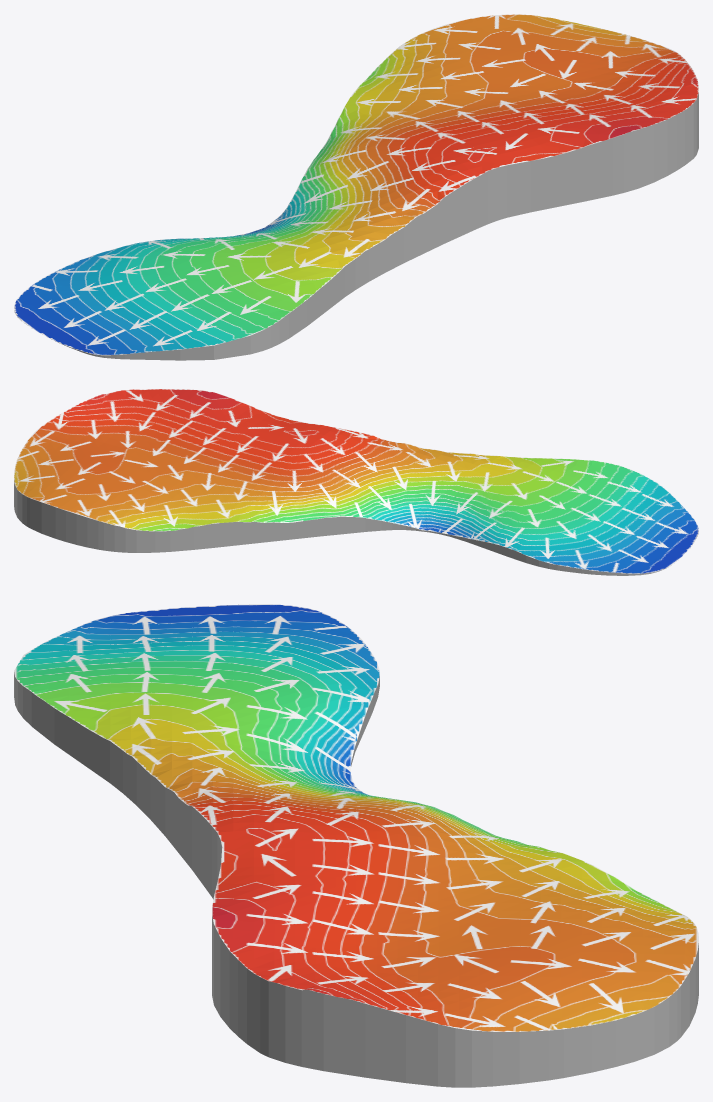
3 views of the same model, one above another, from view 1: azimuth 30°, elevation 25°; view 2: azimuth 150°, elevation 25°; view 3: azimuth 270°, elevation 25° (orthographic). The views are drawn at different scales.
Bounding box in the file's own units: 8.67 × 0.6787 × 5.19.
2 materials, 1 textured.
